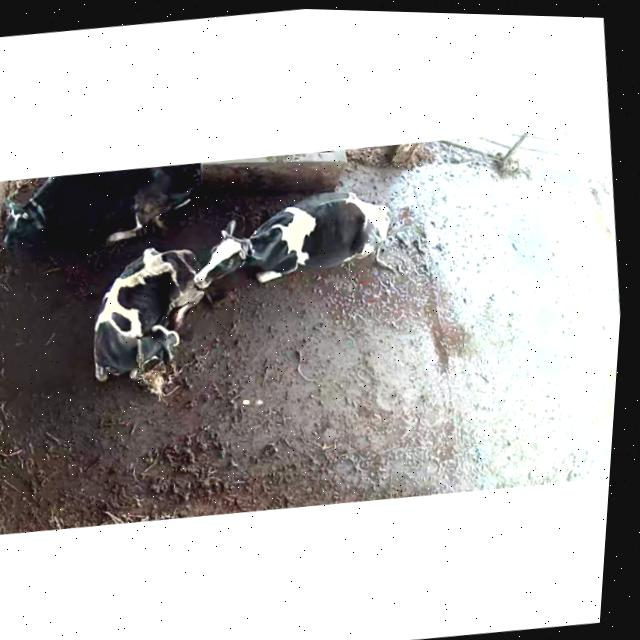lay: (191, 174, 424, 303), (55, 236, 214, 405), (0, 156, 200, 256)
